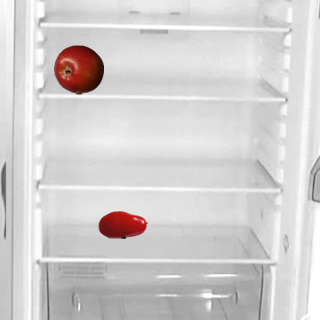Apple Braeburn: (53, 44, 103, 94)
Tomato 2: (97, 199, 147, 249)
